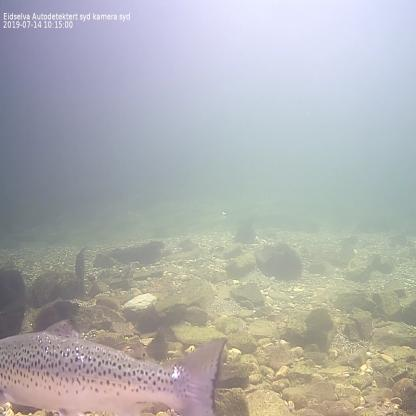salmon: (0, 317, 230, 415)
